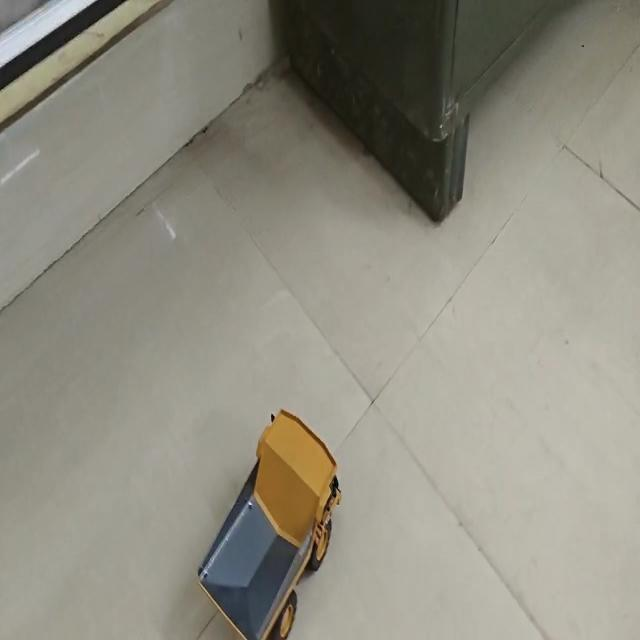dump_truck: (182, 405, 342, 640)
